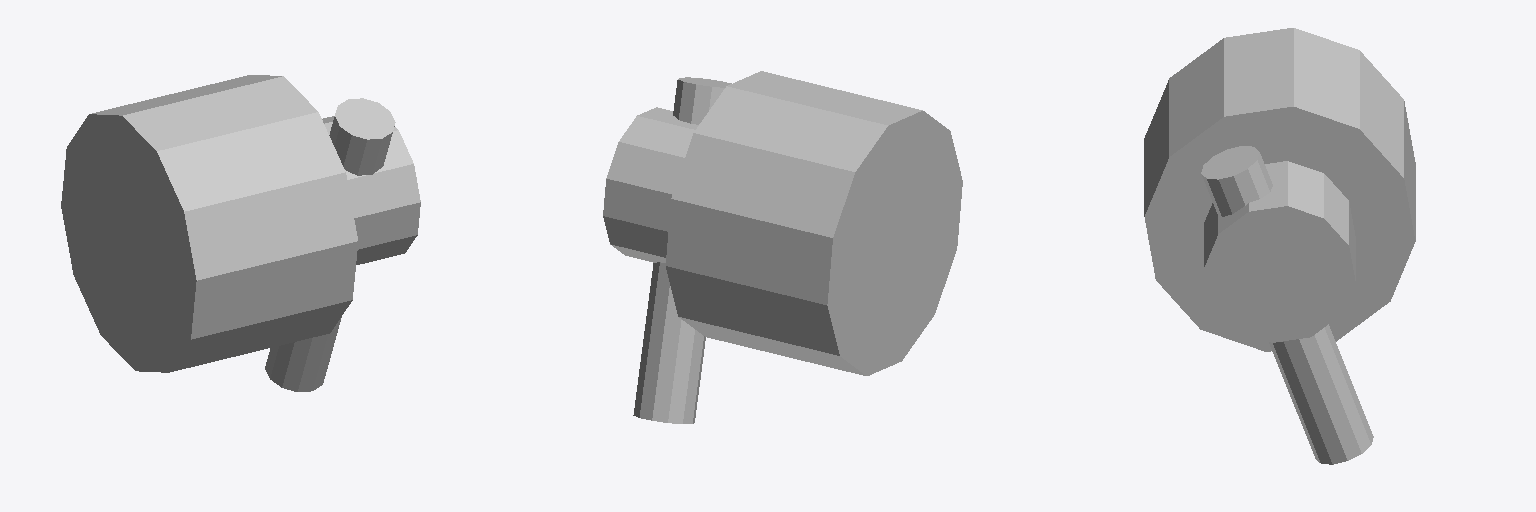
The model's file is con02.obj.
3 views of the same model, side by side, from view 1: azimuth 30°, elevation 25°; view 2: azimuth 150°, elevation 25°; view 3: azimuth 270°, elevation 25° (orthographic).
Parts seen in each view (by area): view 1: Cylinder.001_Grey_0; view 2: Cylinder.001_Grey_0; view 3: Cylinder.001_Grey_0.
Boxes of the visible parts, box(x1,y1,x2,y2) form: Cylinder.001_Grey_0: box(61, 75, 420, 391); Cylinder.001_Grey_0: box(603, 71, 962, 423); Cylinder.001_Grey_0: box(1144, 28, 1415, 464).
Bounding box in the file's own units: 9.5 × 11.88 × 8.77.